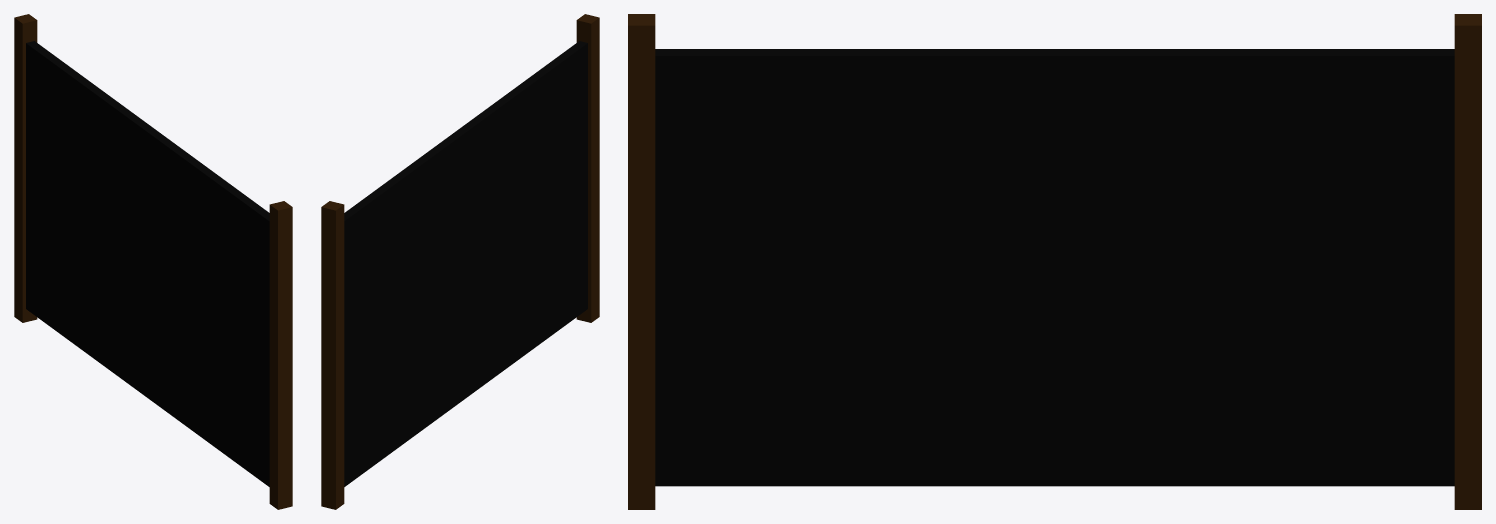
File: GrandHeresyFence.fbx
The picture shows the model from 3 angles, left to right: view 1: azimuth 30°, elevation 25°; view 2: azimuth 150°, elevation 25°; view 3: azimuth 270°, elevation 25°; orthographic projection. The views are drawn at different scales.
Visible parts, largest first — view 1: Cube.001; view 2: Cube.001; view 3: Cube.001.
Part boxes in pixels (left/top/right/bottom): Cube.001: left=14, top=14, right=292, bottom=509; Cube.001: left=321, top=14, right=599, bottom=509; Cube.001: left=628, top=14, right=1481, bottom=509.
Bounding box in the file's own units: 19.36 × 380 × 607.
2 materials, 1 textured.
